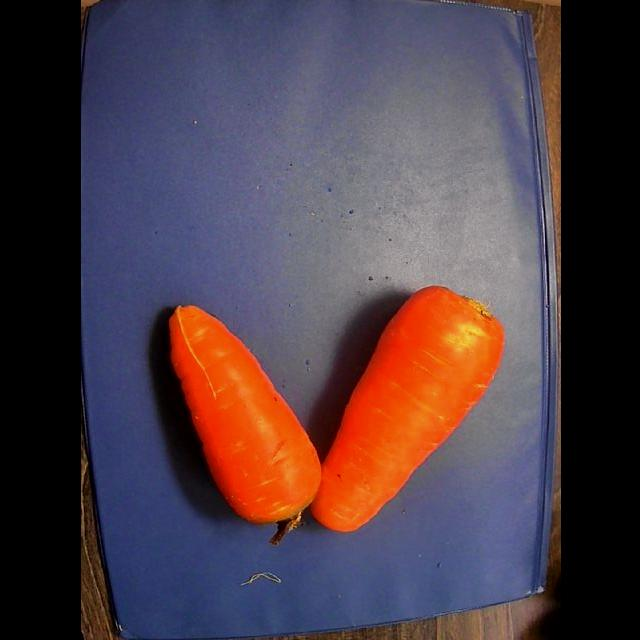zanahoria: (311, 286, 503, 532), (169, 306, 320, 544)
